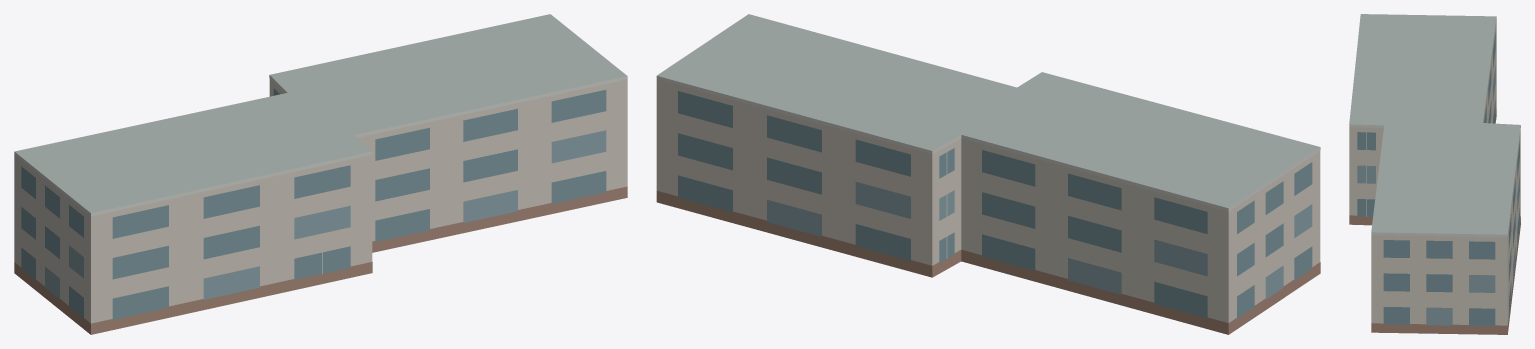
The model's file is survey-upis-32887143.glb.
The picture shows the model from 3 angles, left to right: view 1: azimuth 30°, elevation 25°; view 2: azimuth 150°, elevation 25°; view 3: azimuth 270°, elevation 25°; orthographic projection. The views are drawn at different scales.
Visible parts, largest first — view 1: survey-upis-32887143.tmp; view 2: survey-upis-32887143.tmp; view 3: survey-upis-32887143.tmp.
Part boxes in pixels (left/top/right/bottom): survey-upis-32887143.tmp: left=14, top=14, right=627, bottom=334; survey-upis-32887143.tmp: left=656, top=14, right=1320, bottom=334; survey-upis-32887143.tmp: left=1349, top=14, right=1520, bottom=334.
Bounding box in the file's own units: 43.19 × 9.15 × 14.2.
